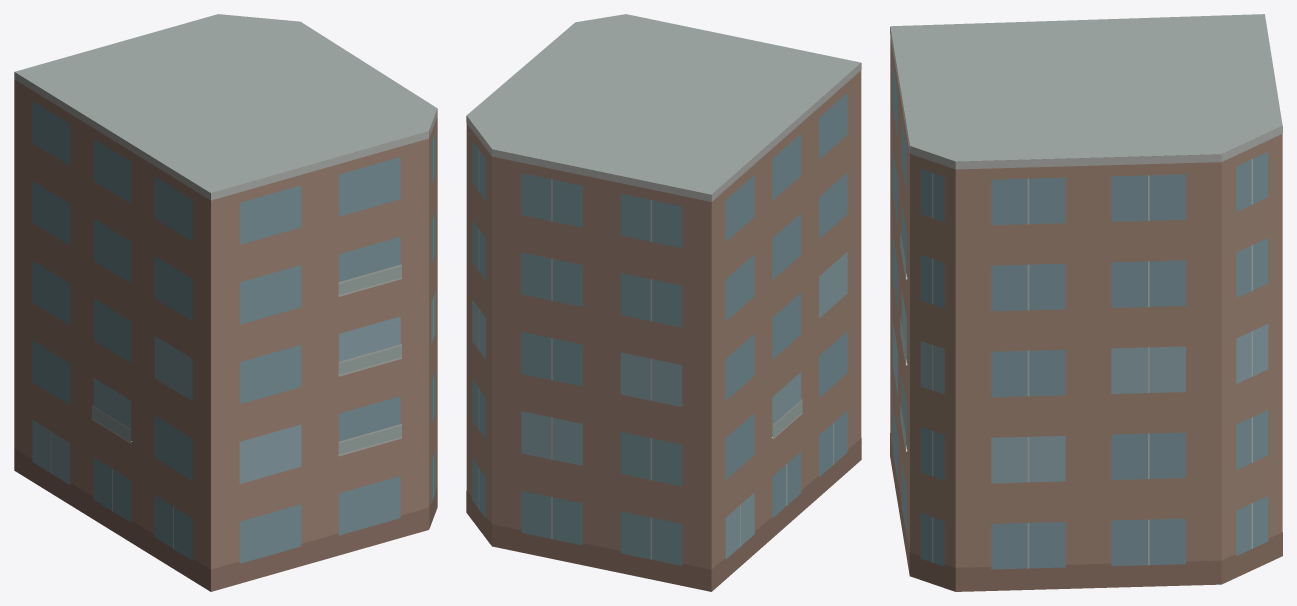
Rendered from survey-upis-32990233.glb.
3 renders of one model, left to right at view 1: azimuth 30°, elevation 25°; view 2: azimuth 150°, elevation 25°; view 3: azimuth 270°, elevation 25°, orthographic. The views are drawn at different scales.
Visible parts, largest first — view 1: survey-upis-32990233.tmp; view 2: survey-upis-32990233.tmp; view 3: survey-upis-32990233.tmp.
Boxes of the visible parts, <box> form: survey-upis-32990233.tmp: <box>14,14,437,591</box>; survey-upis-32990233.tmp: <box>466,14,861,591</box>; survey-upis-32990233.tmp: <box>890,14,1282,591</box>.
Bounding box in the file's own units: 9.71 × 13.2 × 10.92.
